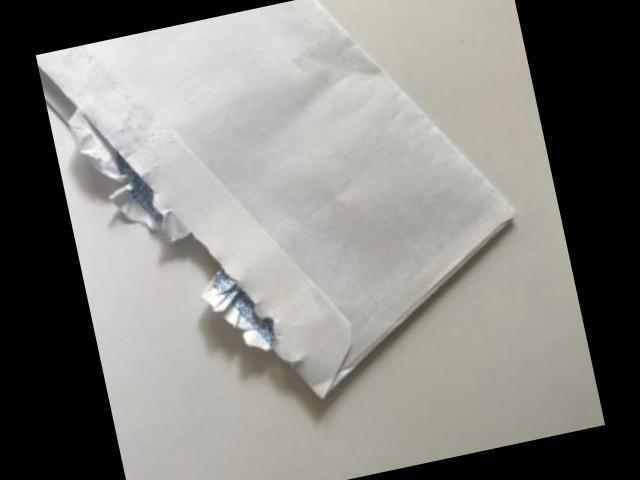cardboard paper: (35, 0, 511, 395)
